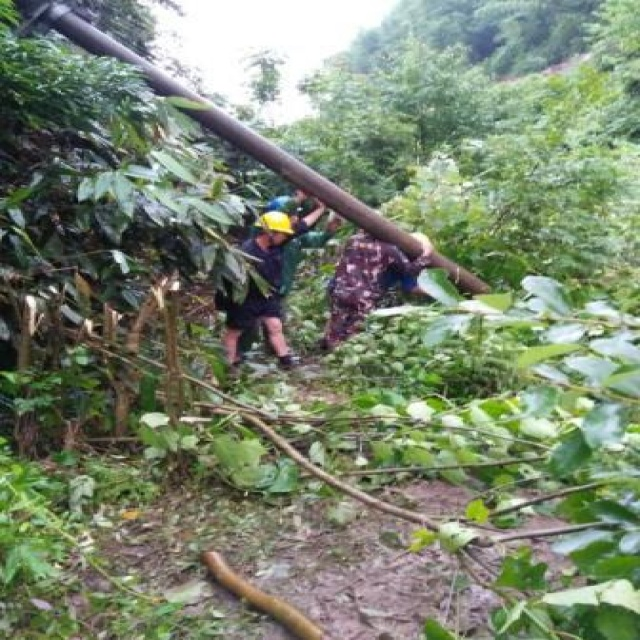Helmet: (251, 197, 298, 262)
